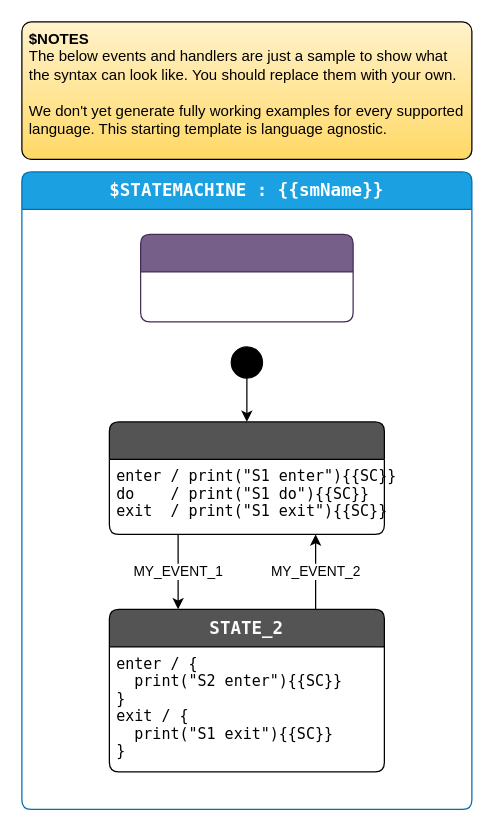
Image size: 494x831. Some labels were removed from this diagram. The shapes that lost their labels are listed below. From the top down, each one's box as (x1, y1, x2, y2) in pixels, then its label:
(139, 233, 353, 322): $CONFIG : toml
(108, 421, 384, 534): STATE_1
